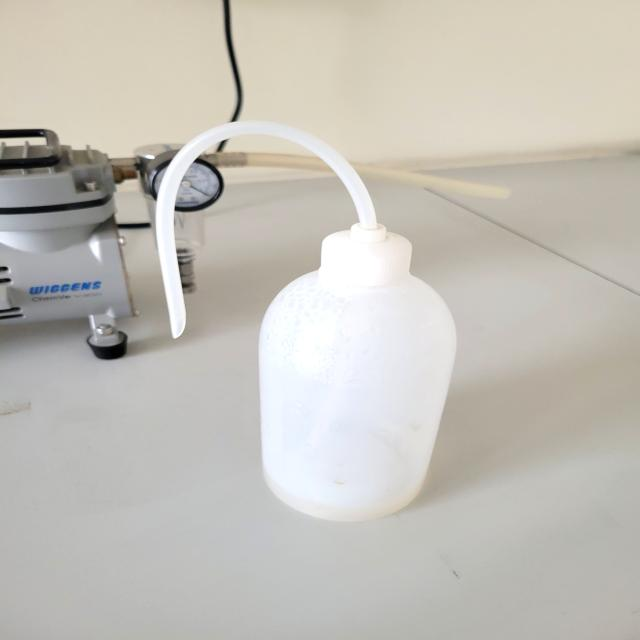Wash_Bottle: (137, 107, 469, 558)
